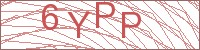6: (40, 3, 58, 31)
P: (120, 11, 143, 39), (94, 1, 116, 29)
Y: (66, 11, 91, 39)
